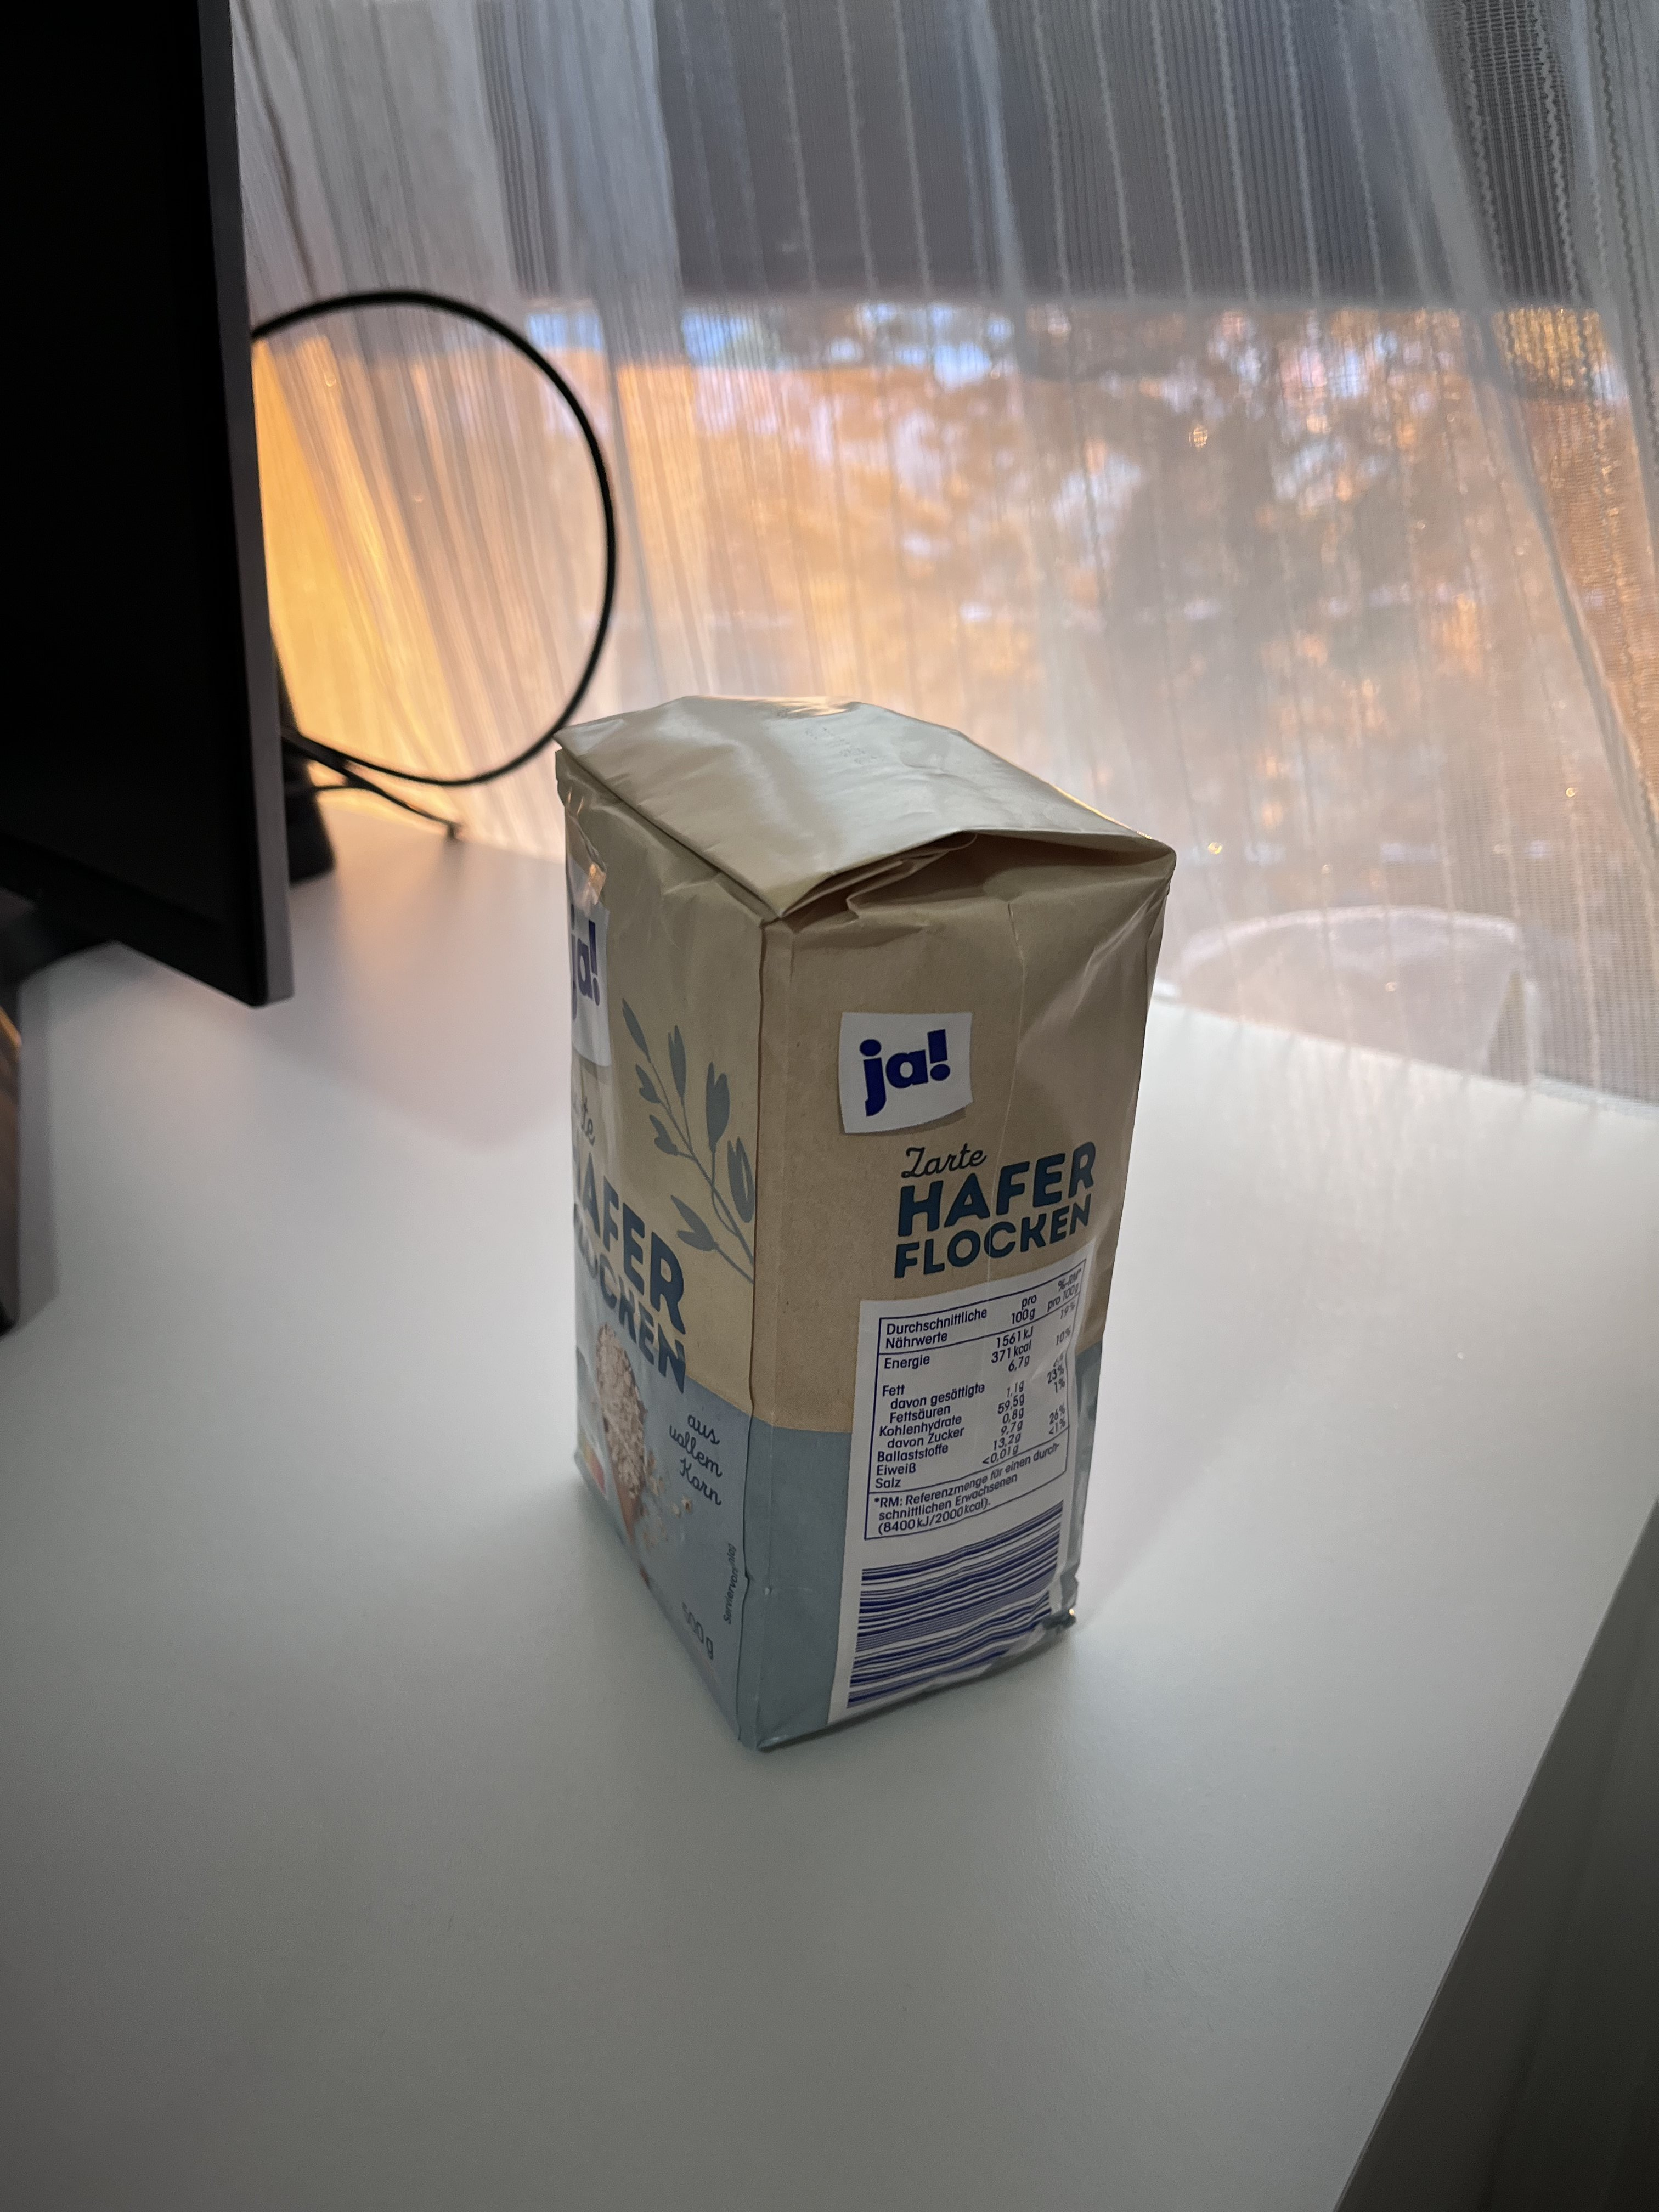haferflocken_ja: (547, 690, 1176, 1759)
